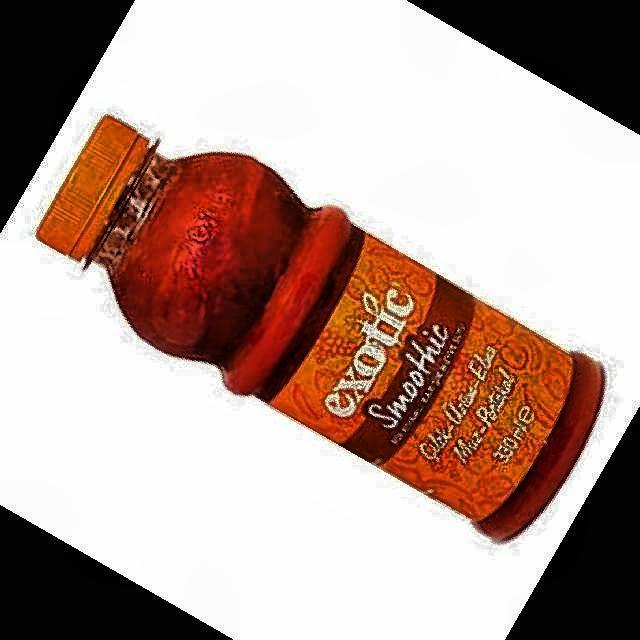plastic: (38, 118, 602, 539)
